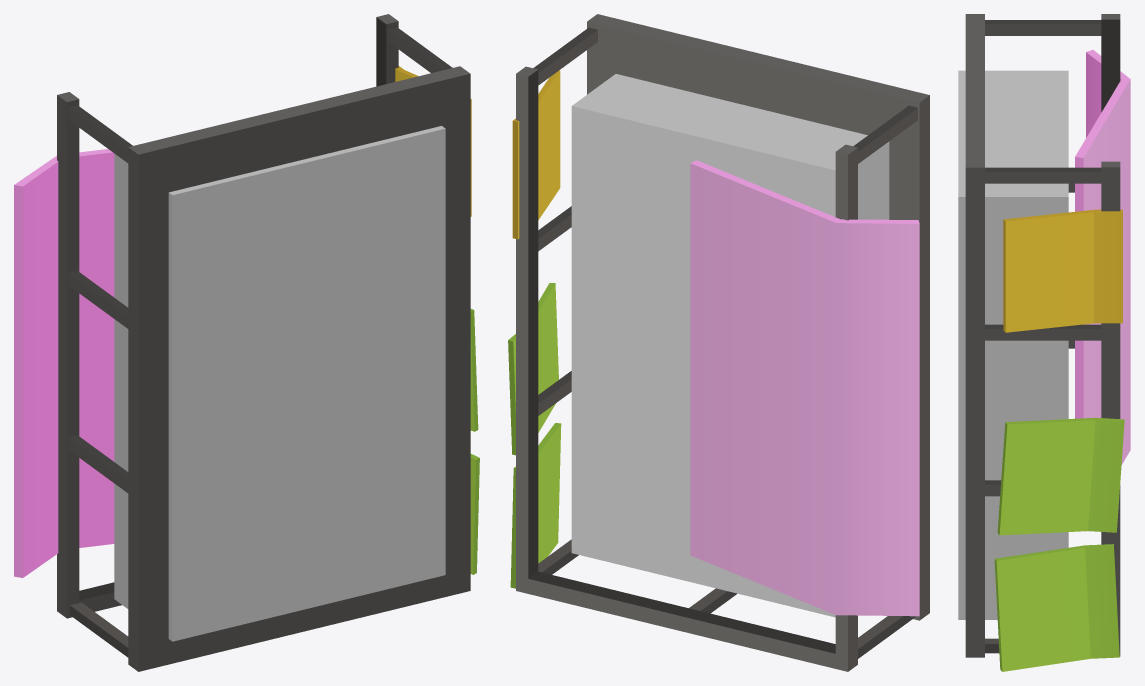
The model's file is PaperTray4.glb.
3 renders of one model, left to right at view 1: azimuth 30°, elevation 25°; view 2: azimuth 150°, elevation 25°; view 3: azimuth 270°, elevation 25°, orthographic. The views are drawn at different scales.
Visible parts, largest first — view 1: SO_PaperTray_04; view 2: SO_PaperTray_04; view 3: SO_PaperTray_04.
Part boxes in pixels (x1,y1,x2,y2): SO_PaperTray_04: (14,14,479,671); SO_PaperTray_04: (508,14,929,671); SO_PaperTray_04: (958,14,1130,671).
Size of the model in its own units: 0.7217 by 0.864 by 0.2737.
Materials: 1 (1 with a texture image).
